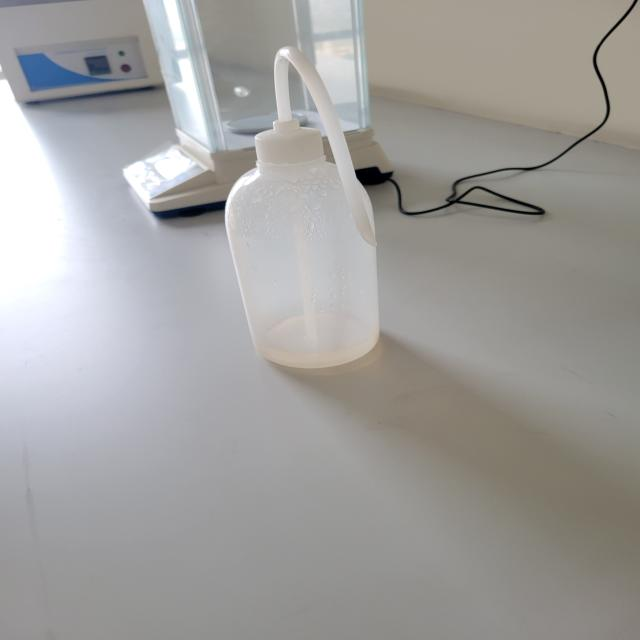Wash_Bottle: (185, 21, 428, 399)
